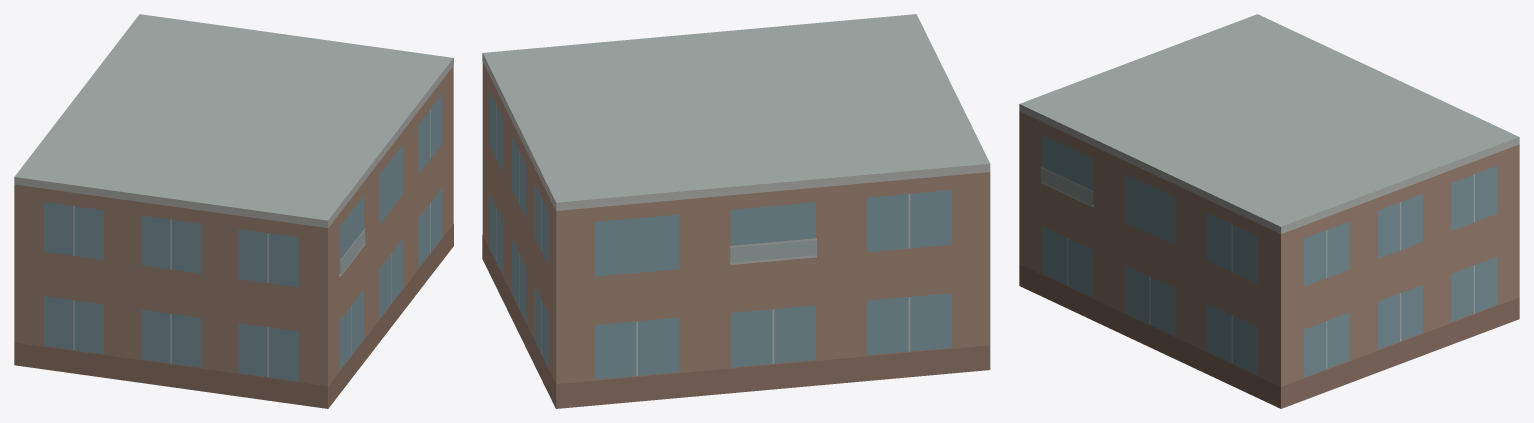
The model's file is survey-upis-32882477.glb.
The picture shows the model from 3 angles, left to right: view 1: azimuth 30°, elevation 25°; view 2: azimuth 150°, elevation 25°; view 3: azimuth 270°, elevation 25°; orthographic projection. The views are drawn at different scales.
Parts seen in each view (by area): view 1: survey-upis-32882477.tmp; view 2: survey-upis-32882477.tmp; view 3: survey-upis-32882477.tmp.
Part boxes in pixels (<box>): survey-upis-32882477.tmp: <box>14,14,453,408</box>; survey-upis-32882477.tmp: <box>482,14,990,408</box>; survey-upis-32882477.tmp: <box>1019,14,1519,408</box>.
Size of the model in its own units: 15.32 by 6.1 by 15.21.
